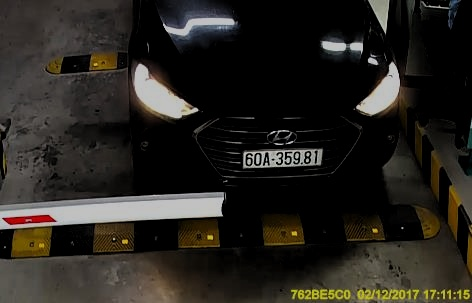plate: (243, 146, 324, 168)
